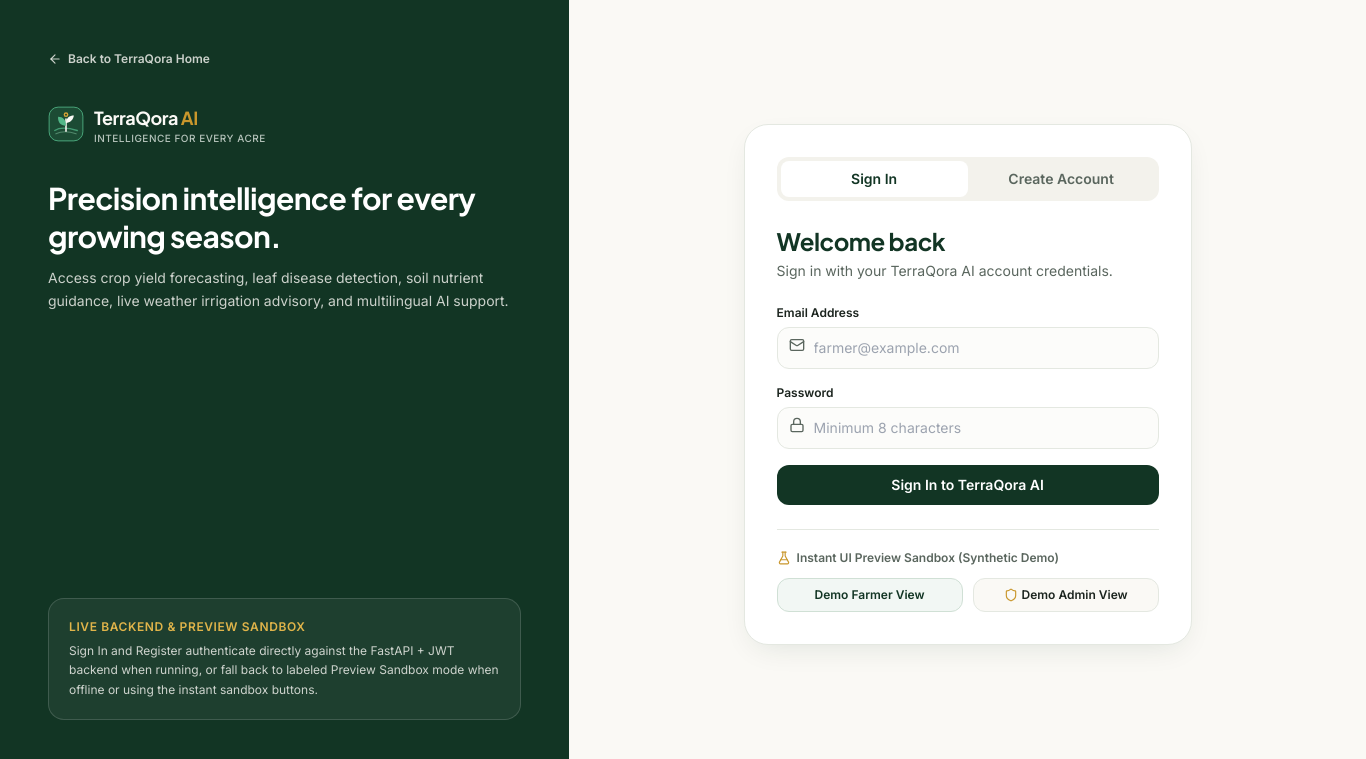
Test: TerraQora AI — Phase 3 Frontend Suite › validates leak-free Crop Yield Prediction form (no Production input), links saved farms, and handles Coconut nuts/ha units
Click the button "Demo Farmer View".
click(870, 594)  # box [777, 578, 963, 612]
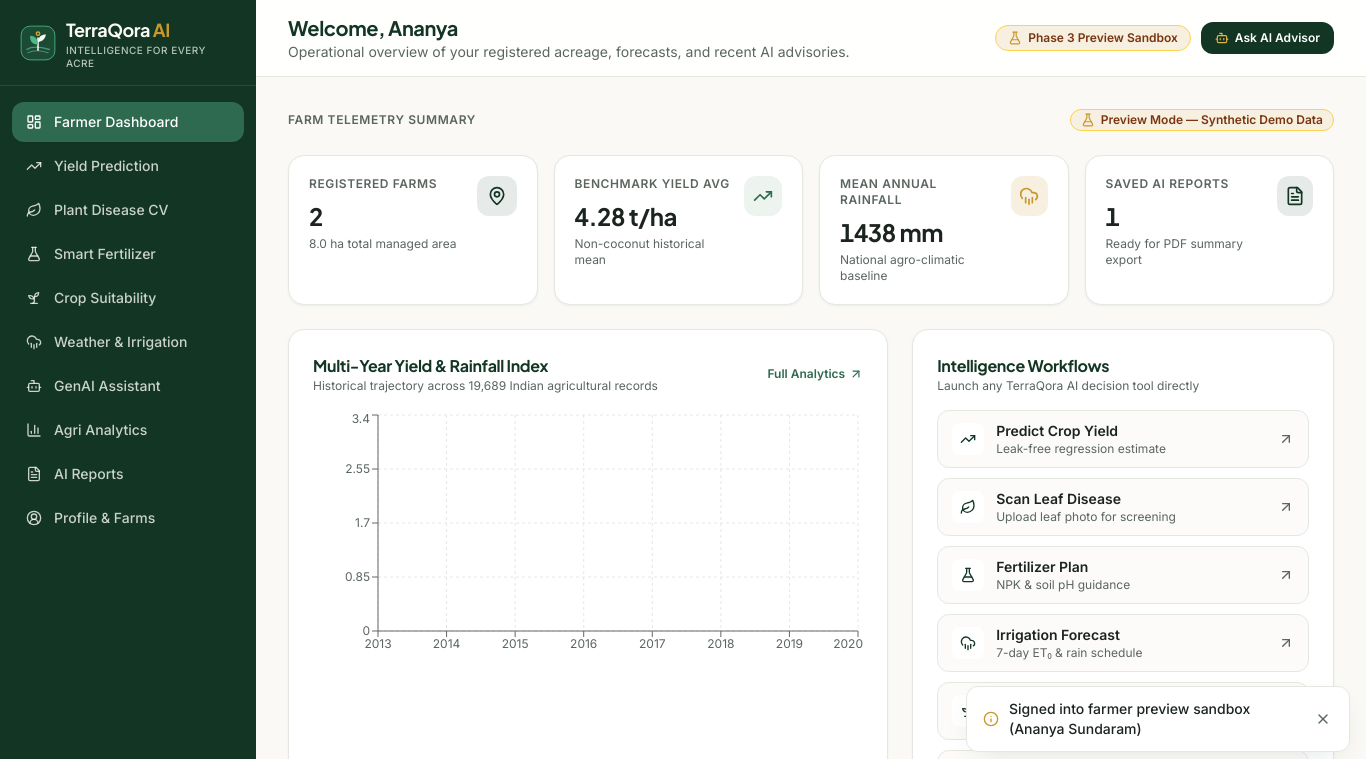
Expected: the text "Farm Telemetry Summary" is shown, [288, 112, 476, 128]
Click the link "Yield Prediction".
click(92, 166)  # box [26, 157, 159, 174]
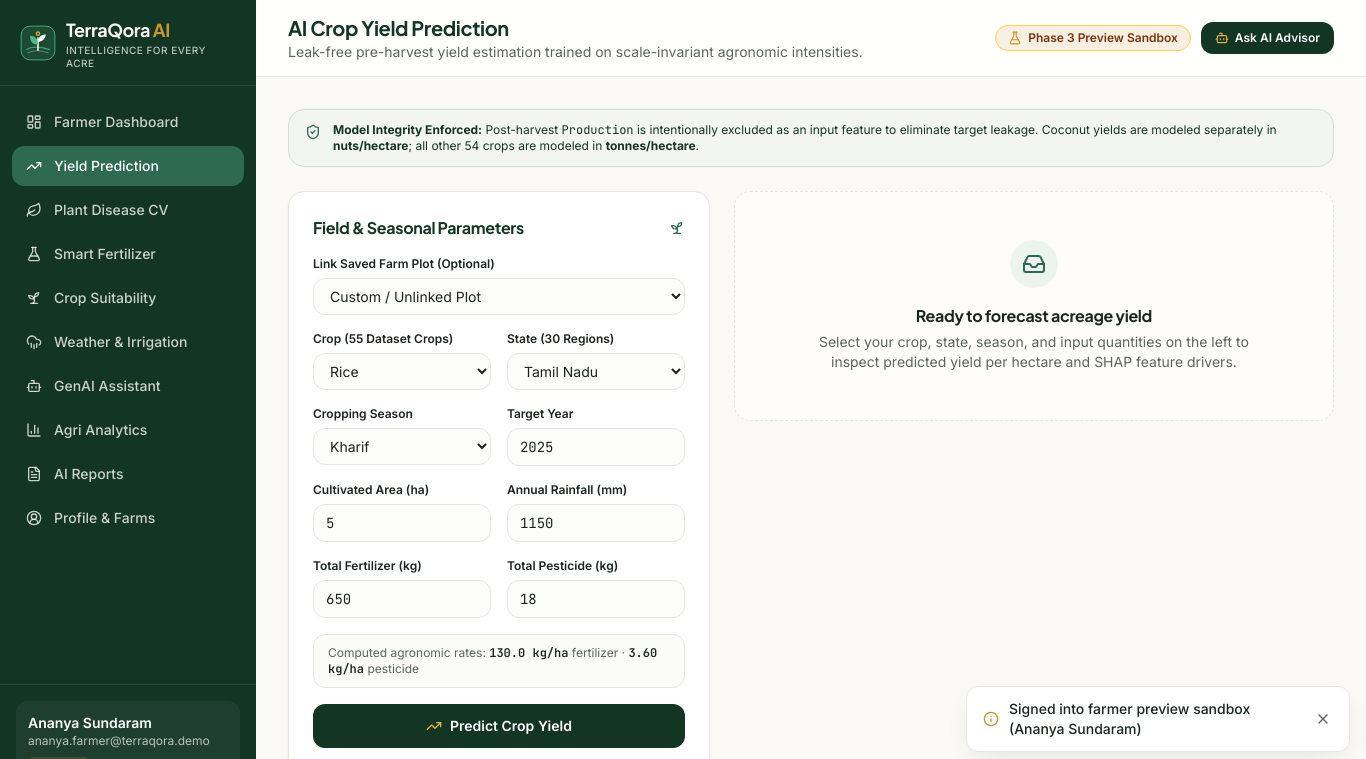
Expected: the heading "Field & Seasonal Parameters" is shown, [313, 216, 524, 240]
Select "Pollachi North Plot A (Tamil Nadu · 4.8 ha)" in the dropdown labelled "Link Saved Farm Plot (Optional)" at [499, 296], box [313, 278, 685, 315]
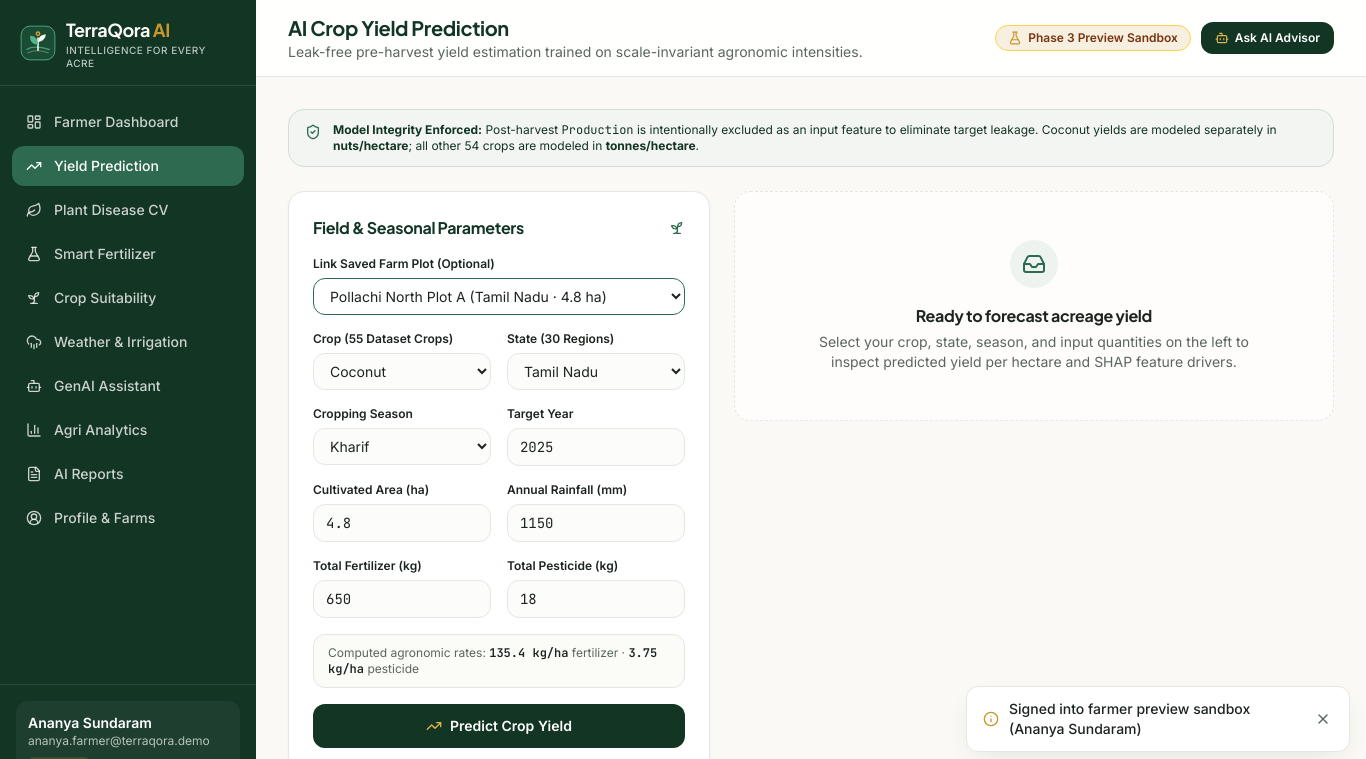
Expected: the dropdown labelled "Crop (55 Dataset Crops)" shows "Coconut", [313, 353, 491, 390]
Click the button "Predict Crop Yield".
click(499, 726)  # box [313, 704, 685, 748]
(page scrolled)
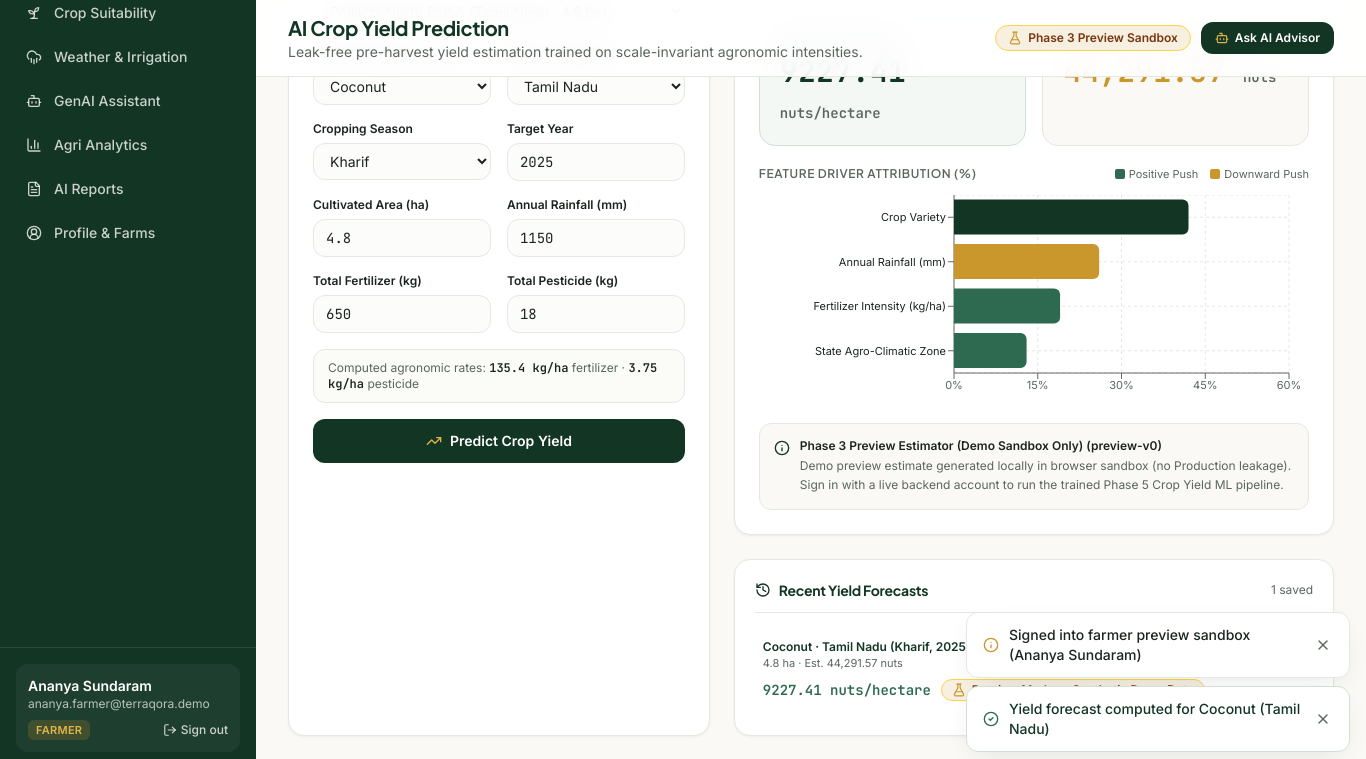
Expected: the text "Predicted Unit Yield" is shown, [780, 33, 894, 48]
Expected: the heading "Recent Yield Forecasts" is shown, [779, 580, 928, 600]
